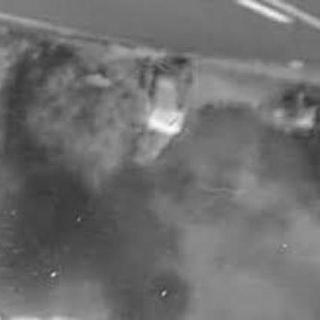Smoke: (197, 195, 313, 319)
